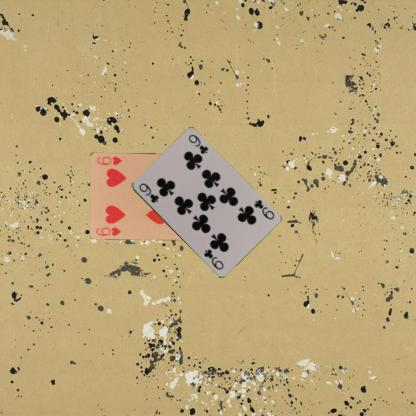6h: (94, 224, 122, 237)
9c: (136, 180, 160, 204), (251, 197, 275, 221)
